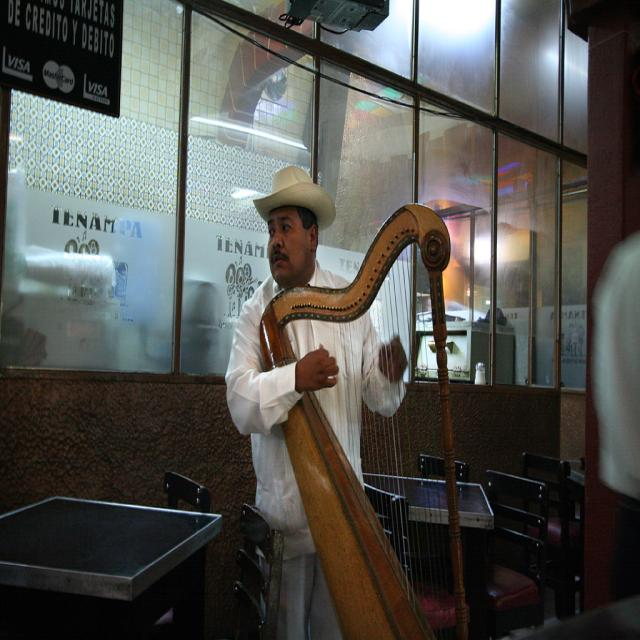harp: (259, 199, 473, 640)
